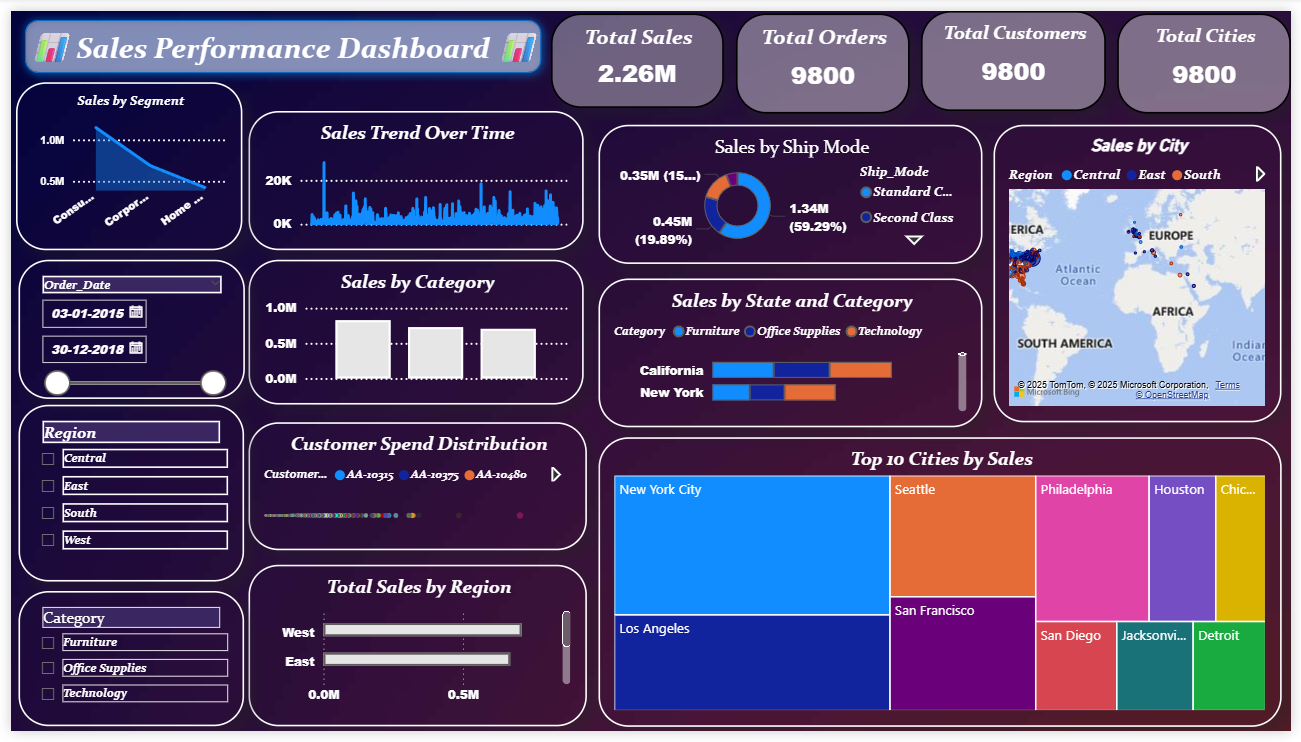

What the dashboard file says about the page in this screenshot:
{"tool":"powerbi","page":{"name":"Dashboard","canvas":[1280,720],"ordinal":0},"visuals":[{"type":"card","title":"Total Sales","fields":{"Values":["superstore_final_dataset txt.Sales"]},"box":[539.8,2.8,172.5,94.6],"z":1000},{"type":"card","title":"Total Orders","fields":{"Values":["superstore_final_dataset txt.Order_ID"]},"box":[724.9,2.8,173.9,100.2],"z":2000},{"type":"card","title":"Total Customers","fields":{"Values":["superstore_final_dataset txt.Customer_ID"]},"box":[909.9,0,185,100.2],"z":3000},{"type":"card","title":"Total Cities","fields":{"Values":["superstore_final_dataset txt.City"]},"box":[1106.1,2.8,173.9,100.2],"z":4000},{"type":"clusteredBarChart","title":"Total Sales by Region","fields":{"Category":["superstore_final_dataset txt.Region"],"Y":["superstore_final_dataset txt.Sales"]},"box":[237.9,553.7,338.1,161.4],"z":5000},{"type":"lineChart","title":"Sales Trend Over Time","fields":{"Y":["superstore_final_dataset txt.Sales"],"Category":["superstore_final_dataset txt.Order_Date.Variation.Date Hierarchy.Year","superstore_final_dataset txt.Order_Date.Variation.Date Hierarchy.Quarter","superstore_final_dataset txt.Order_Date.Variation.Date Hierarchy.Month","superstore_final_dataset txt.Order_Date.Variation.Date Hierarchy.Day"]},"box":[237.9,100.2,335.3,139.1],"z":6000},{"type":"clusteredColumnChart","title":"Sales by Category ","fields":{"Y":["superstore_final_dataset txt.Sales"],"Category":["superstore_final_dataset txt.Category"]},"box":[237.9,249,335.3,144.7],"z":7000},{"type":"areaChart","title":"Sales by Segment","fields":{"Y":["superstore_final_dataset txt.Sales"],"Category":["superstore_final_dataset txt.Segment"]},"box":[5.6,71,226.8,168.3],"z":8000},{"type":"donutChart","title":"Sales by Ship Mode","fields":{"Y":["superstore_final_dataset txt.Sales"],"Category":["superstore_final_dataset txt.Ship_Mode"]},"box":[587.1,114.1,384,139.1],"z":9000},{"type":"barChart","title":"Sales by State and Category","fields":{"Category":["superstore_final_dataset txt.State"],"Y":["superstore_final_dataset txt.Sales"],"Series":["superstore_final_dataset txt.Category"]},"box":[587.1,267.1,384,148.9],"z":10000},{"type":"treemap","title":"Top 10 Cities by Sales","fields":{"Group":["superstore_final_dataset txt.City"],"Values":["superstore_final_dataset txt.Sales"]},"box":[587.1,425.7,683.1,289.4],"z":11000},{"type":"scatterChart","title":"Customer Spend Distribution","fields":{"X":["superstore_final_dataset txt.Sales"],"Size":["superstore_final_dataset txt.Sales"],"Series":["superstore_final_dataset txt.Customer_ID"]},"box":[237.9,411.8,338.1,128],"z":12000},{"type":"slicer","fields":{"Values":["superstore_final_dataset txt.Order_Date"]},"box":[7.5,248.8,226.2,145],"z":13000},{"type":"slicer","fields":{"Values":["superstore_final_dataset txt.Region"]},"box":[7,393.7,225.4,176.7],"z":14000},{"type":"slicer","fields":{"Values":["superstore_final_dataset txt.Category"]},"box":[7,580.2,225.4,135],"z":15000},{"type":"map","title":"Sales by City","fields":{"Category":["superstore_final_dataset txt.City"],"Series":["superstore_final_dataset txt.Region"],"Size":["superstore_final_dataset txt.Sales"]},"box":[982.3,114.1,288,297.7],"z":16000},{"type":"shape","box":[5.6,0,534.3,71],"z":17000}]}

Visuals, with their boxes in screenshot pixels (x1, y1, x2, y2), scaled from the page's 1280x720 canvas onto the 1301x742 screenshot:
"Total Sales" card: detection(549, 3, 724, 100)
"Total Orders" card: detection(737, 3, 914, 106)
"Total Customers" card: detection(925, 0, 1113, 103)
"Total Cities" card: detection(1124, 3, 1300, 106)
"Total Sales by Region" clusteredBarChart: detection(242, 571, 585, 737)
"Sales Trend Over Time" lineChart: detection(242, 103, 583, 247)
"Sales by Category " clusteredColumnChart: detection(242, 257, 583, 406)
"Sales by Segment" areaChart: detection(6, 73, 236, 247)
"Sales by Ship Mode" donutChart: detection(597, 118, 987, 261)
"Sales by State and Category" barChart: detection(597, 275, 987, 429)
"Top 10 Cities by Sales" treemap: detection(597, 439, 1291, 737)
"Customer Spend Distribution" scatterChart: detection(242, 424, 585, 556)
slicer - superstore_final_dataset txt.Order_Date: detection(8, 256, 238, 406)
slicer - superstore_final_dataset txt.Region: detection(7, 406, 236, 588)
slicer - superstore_final_dataset txt.Category: detection(7, 598, 236, 737)
"Sales by City" map: detection(998, 118, 1291, 424)
shape: detection(6, 0, 549, 73)
